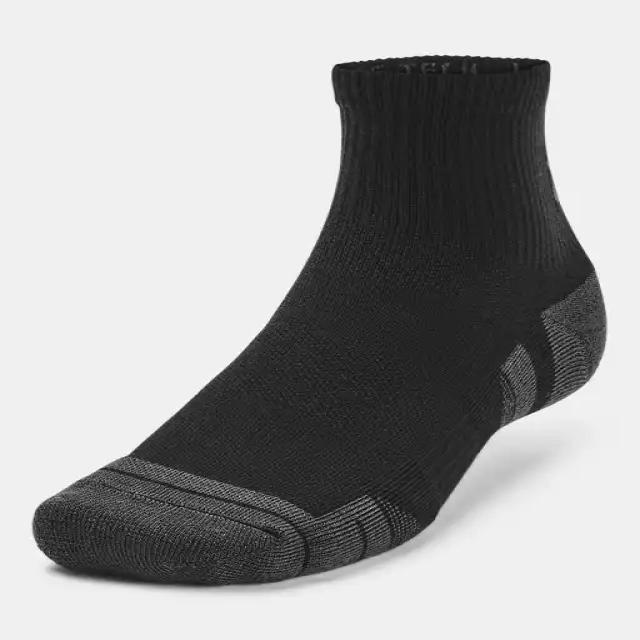sock: (31, 53, 608, 586)
